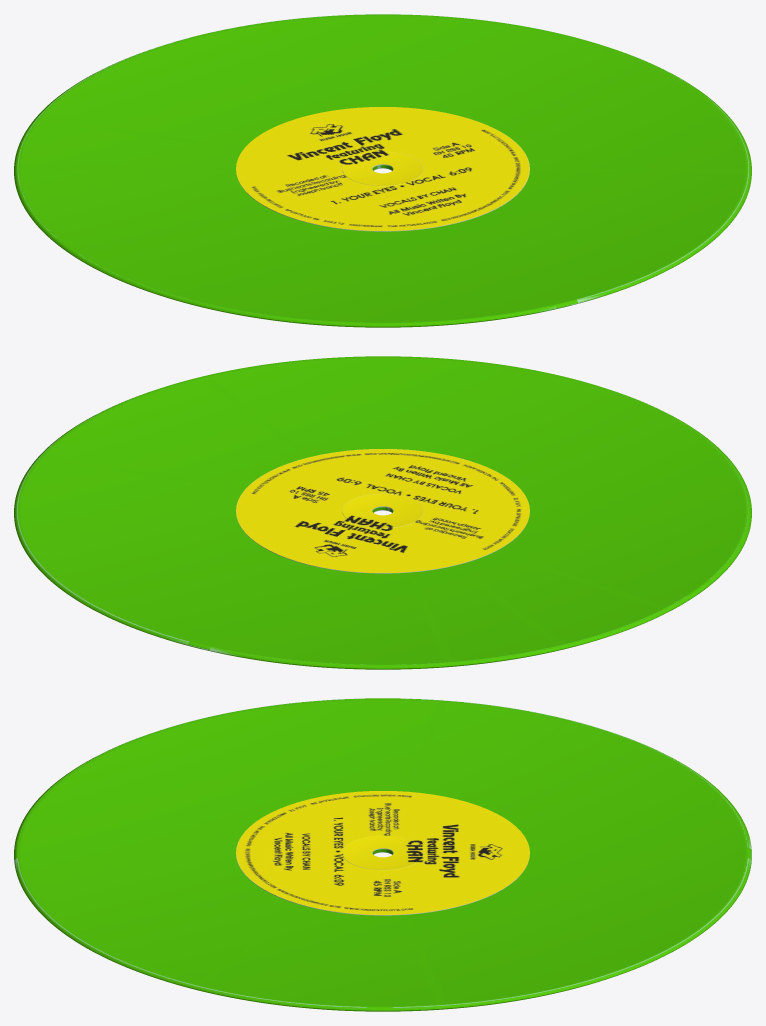
File: vinyl_10_heavy_with_labels.dae
3 views of the same model, one above another, from view 1: azimuth 30°, elevation 25°; view 2: azimuth 150°, elevation 25°; view 3: azimuth 270°, elevation 25° (orthographic).
Visible parts, largest first — view 1: vinyl, label; view 2: vinyl, label; view 3: vinyl, label.
Part boxes in pixels (<box>): vinyl: <box>14,14,751,327</box>; label: <box>236,107,529,231</box>; vinyl: <box>14,356,751,669</box>; label: <box>236,449,529,573</box>; vinyl: <box>14,698,751,1011</box>; label: <box>236,791,529,915</box>.
Bounding box in the file's own units: 25 × 0.17 × 25.
2 materials, 2 textured.
